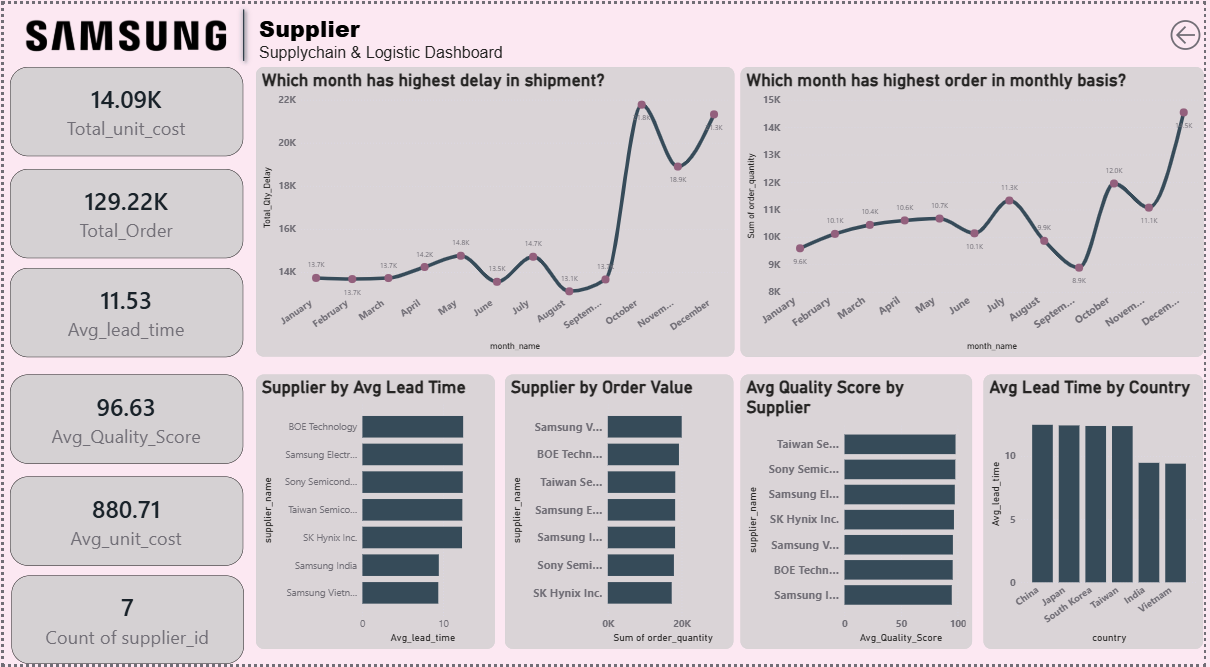

This screenshot's page, from the dashboard's own definition file:
{"tool":"powerbi","page":{"name":"Supplier","canvas":[2000,1100],"ordinal":2},"visuals":[{"type":"image","box":[9.9,0,371.1,103.9],"z":0},{"type":"shape","box":[346.3,0,103.9,103.9],"z":1000},{"type":"textbox","box":[420.5,7.4,677.8,96.5],"z":2000},{"type":"cardVisual","fields":{"Data":["Table.Total_unit_cost"]},"box":[9.9,103.9,388.4,148.4],"z":3000},{"type":"cardVisual","fields":{"Data":["Table.Total_Order"]},"box":[9.9,274.6,388.4,148.4],"z":4000},{"type":"cardVisual","fields":{"Data":["Table.Avg_lead_time"]},"box":[9.9,440.3,388.4,148.4],"z":5000},{"type":"cardVisual","fields":{"Data":["Table.Avg_Quality_Score"]},"box":[9.9,618.5,388.4,148.4],"z":6000},{"type":"cardVisual","fields":{"Data":["Table.Avg_unit_cost"]},"box":[9.9,786.7,388.4,148.4],"z":7000},{"type":"cardVisual","fields":{"Data":["CountNonNull(dim_supplier.supplier_id)"]},"box":[12.5,952.5,387.5,147.5],"z":8000},{"type":"lineChart","title":"Which month has highest delay in shipment?","fields":{"Y":["Table.Total_Qty_Delay"],"Category":["dim_date.month_name"]},"box":[420,105,797.5,482.5],"z":9000},{"type":"lineChart","title":"Which month has highest order in monthly basis?","fields":{"Y":["Sum(fact_procurement.order_quantity)"],"Category":["dim_date.month_name"]},"box":[1228,105,772,483],"z":10000},{"type":"clusteredBarChart","title":"Supplier by Avg Lead Time","fields":{"Category":["dim_supplier.supplier_name"],"Y":["Table.Avg_lead_time"]},"box":[420.5,618.5,398.3,457.7],"z":11000},{"type":"clusteredBarChart","title":"Supplier by Order Value","fields":{"Category":["dim_supplier.supplier_name"],"Y":["Sum(fact_procurement.order_quantity)"]},"box":[836.2,618.5,381,457.7],"z":12000},{"type":"clusteredBarChart","title":"Avg Quality Score by Supplier","fields":{"Category":["dim_supplier.supplier_name"],"Y":["Table.Avg_Quality_Score"]},"box":[1227,618.5,385.9,457.7],"z":13000},{"type":"clusteredColumnChart","title":"Avg Lead Time by Country","fields":{"Category":["dim_supplier.country"],"Y":["Table.Avg_lead_time"]},"box":[1632.7,618.5,366.1,457.7],"z":14000},{"type":"actionButton","box":[1936.7,0,63.3,103.3],"z":15000}]}

Visuals, with their boxes in screenshot pixels (x1, y1, x2, y2), scaled from the page's 2000x1100 canvas onto the 1210x667 screenshot:
image: detection(6, 0, 231, 63)
shape: detection(210, 0, 272, 63)
textbox: detection(254, 4, 664, 63)
cardVisual - Table.Total_unit_cost: detection(6, 63, 241, 153)
cardVisual - Table.Total_Order: detection(6, 167, 241, 256)
cardVisual - Table.Avg_lead_time: detection(6, 267, 241, 357)
cardVisual - Table.Avg_Quality_Score: detection(6, 375, 241, 465)
cardVisual - Table.Avg_unit_cost: detection(6, 477, 241, 567)
cardVisual - CountNonNull(dim_supplier.supplier_id): detection(8, 578, 242, 666)
"Which month has highest delay in shipment?" lineChart: detection(254, 64, 737, 356)
"Which month has highest order in monthly basis?" lineChart: detection(743, 64, 1209, 357)
"Supplier by Avg Lead Time" clusteredBarChart: detection(254, 375, 495, 653)
"Supplier by Order Value" clusteredBarChart: detection(506, 375, 736, 653)
"Avg Quality Score by Supplier" clusteredBarChart: detection(742, 375, 976, 653)
"Avg Lead Time by Country" clusteredColumnChart: detection(988, 375, 1209, 653)
actionButton: detection(1172, 0, 1209, 63)
